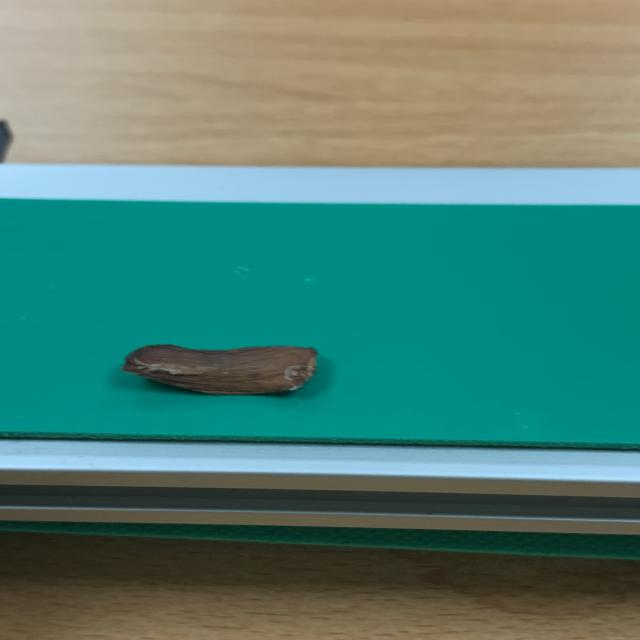Flat_cocoabeans: (84, 306, 376, 418)
